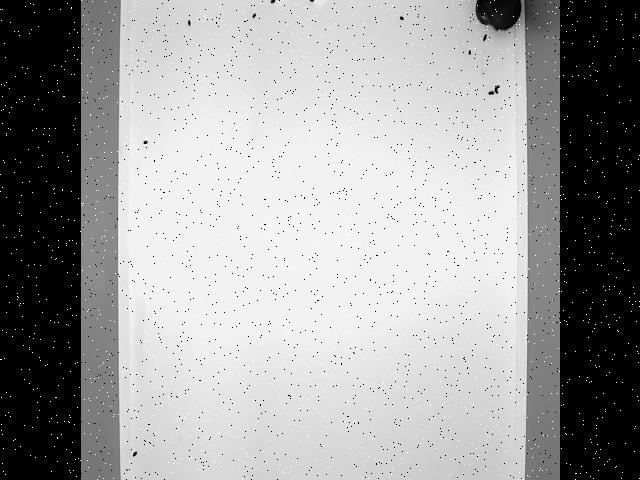Tikus: (471, 0, 523, 42)
